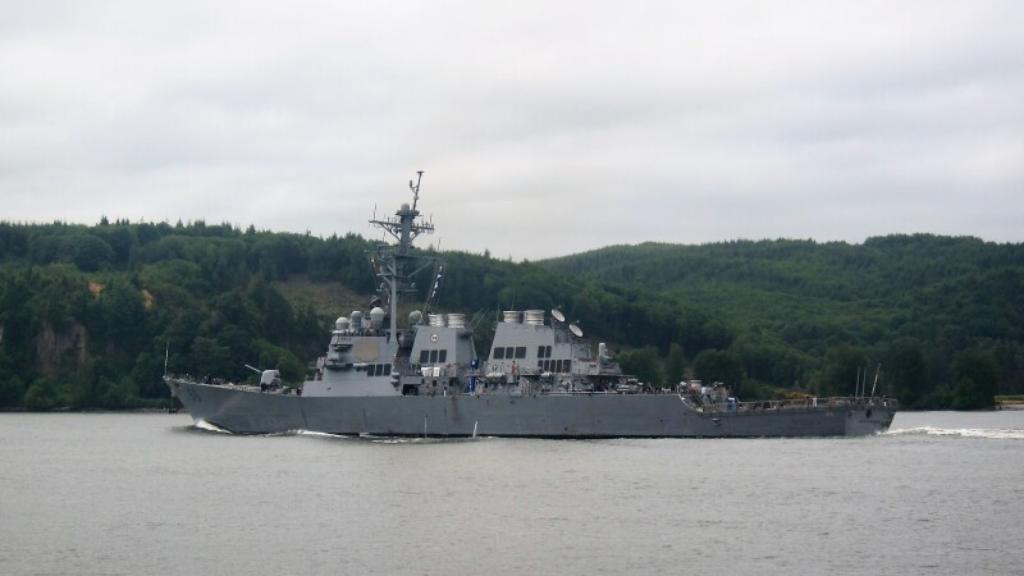Warship: (164, 168, 902, 440)
